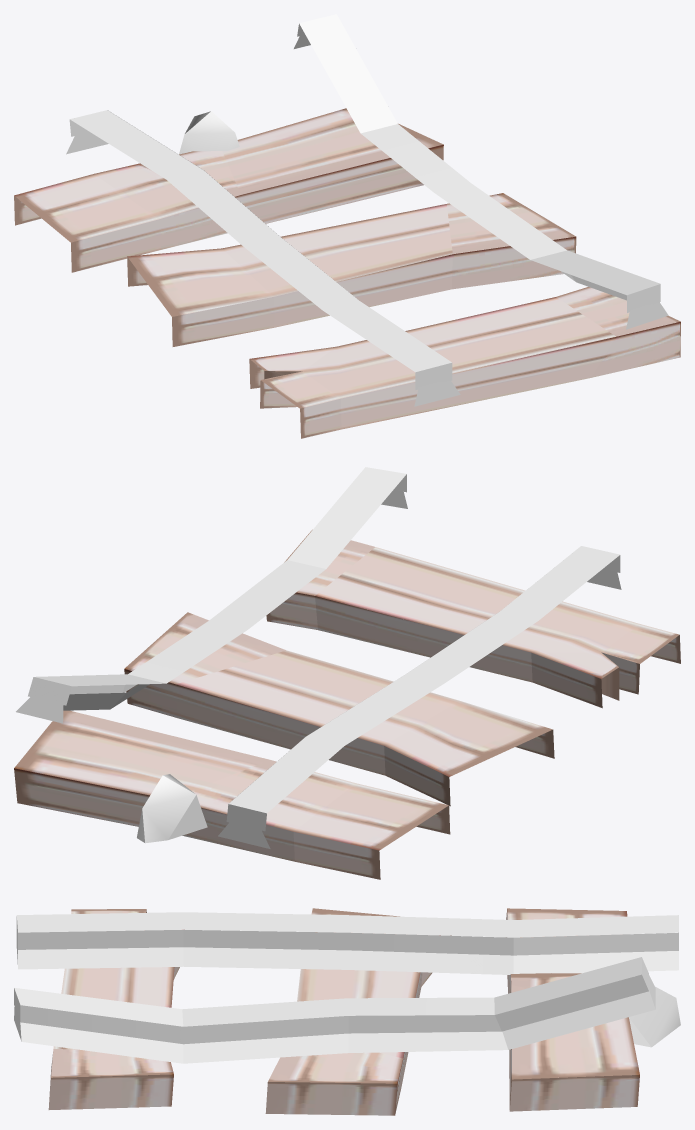
The model's file is obstacle_rails.fbx.
3 renders of one model, top to bottom at view 1: azimuth 30°, elevation 25°; view 2: azimuth 150°, elevation 25°; view 3: azimuth 270°, elevation 25°, orthographic. The views are drawn at different scales.
Visible parts, largest first — view 1: MineCartTracks; view 2: MineCartTracks; view 3: MineCartTracks.
Part boxes in pixels (x1=…): MineCartTracks: x1=14, y1=14, x2=680, y2=438; MineCartTracks: x1=14, y1=467, x2=680, y2=879; MineCartTracks: x1=14, y1=908, x2=680, y2=1115.
Size of the model in its own units: 1.11 by 0.3614 by 1.76.
